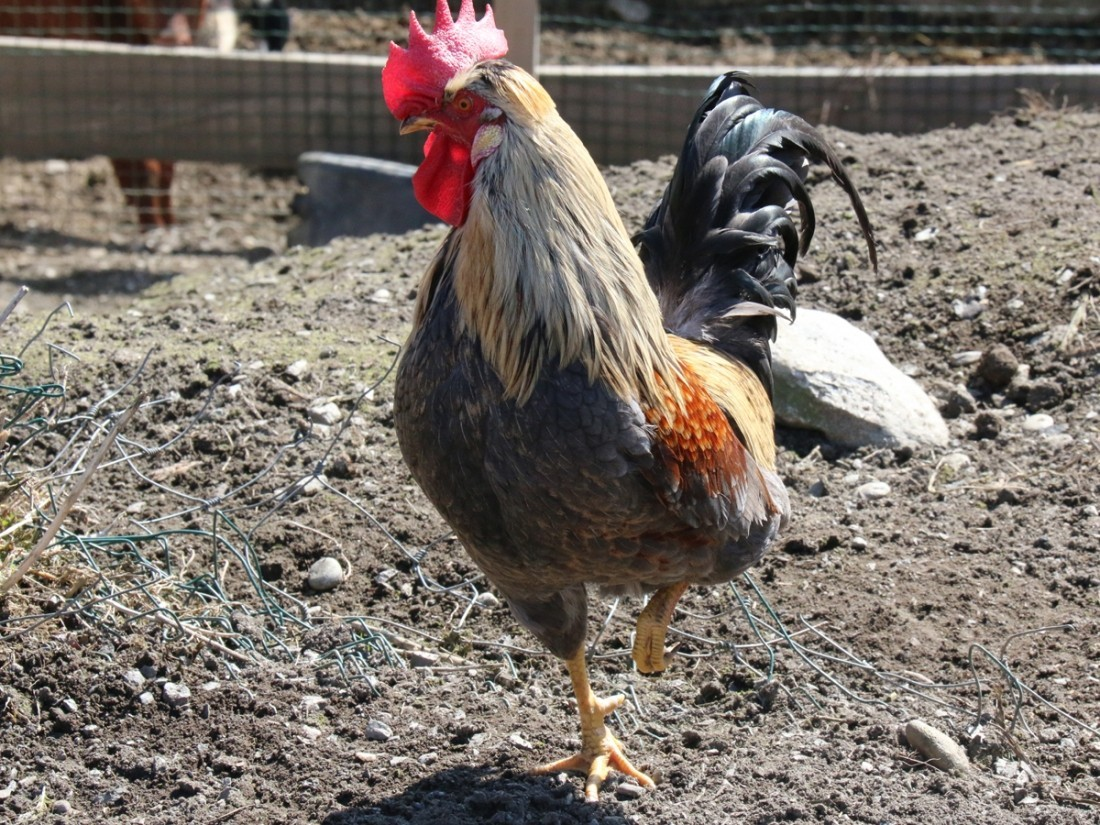chicken: (380, 1, 884, 809)
